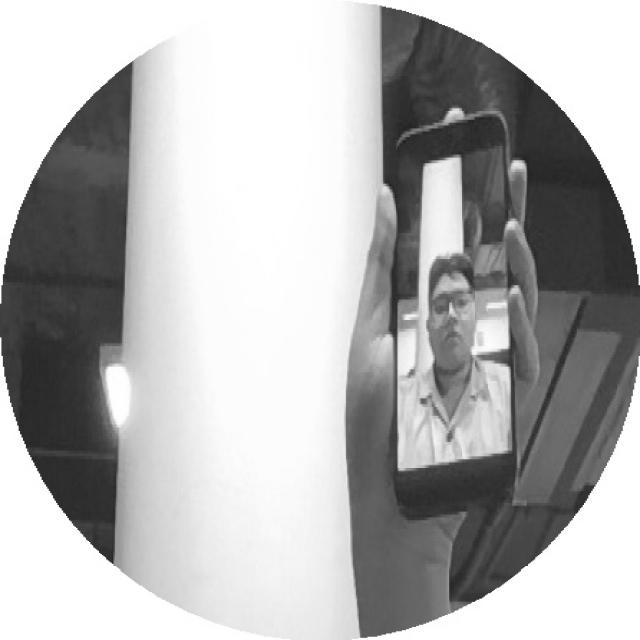fake: (358, 98, 549, 517), (377, 106, 533, 526)
